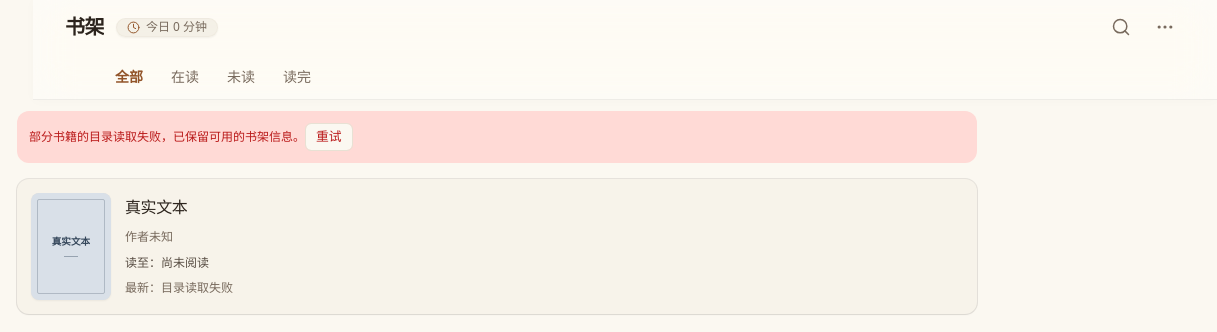
Test: real library presentation › exposes a chapter failure and retries without hiding the book
Expected: the message shows "目录读取失败", [29, 130, 305, 144]
Expected: the button with test id "library-book-real-book" is shown, [17, 179, 977, 314]
Click the button "重试": (329, 137) [305, 123, 353, 151]
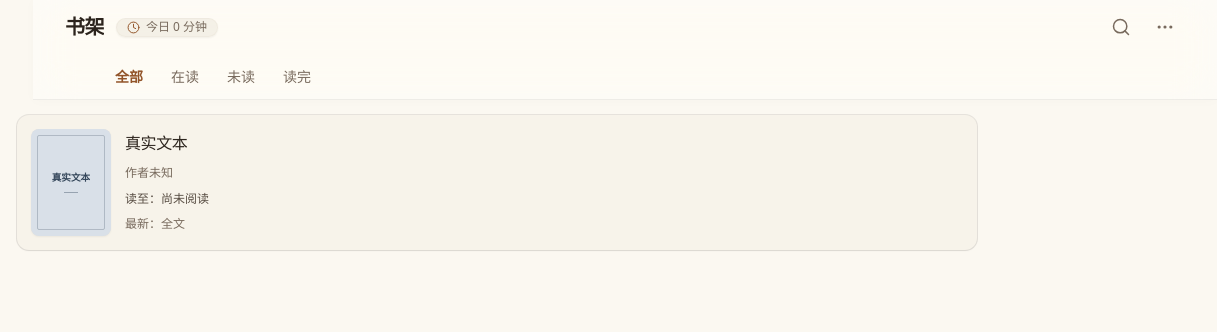
Expected: the message "部分书籍的目录读取失败，已保留可用的书架信息。 重试" is gone
